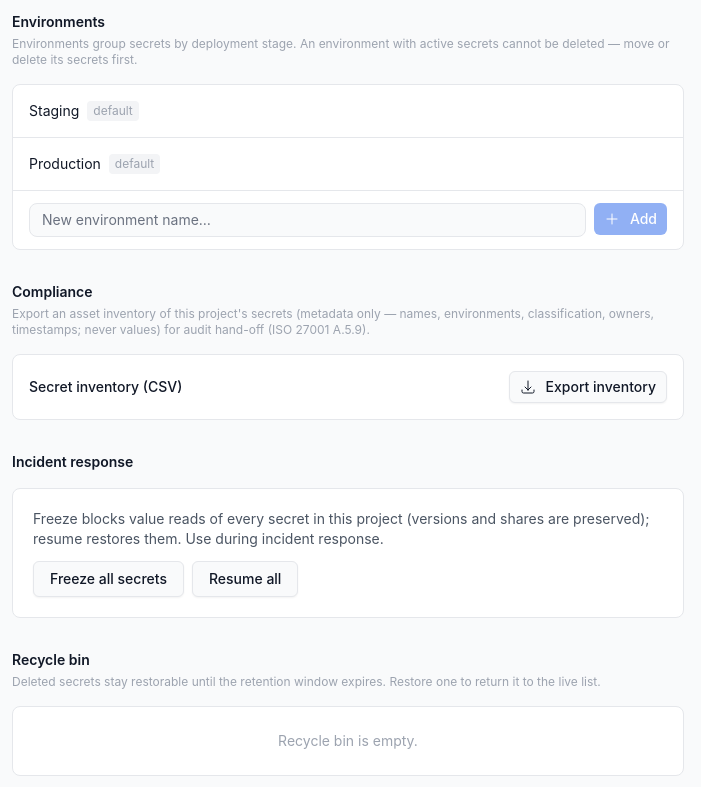
it: ProjectSettingsTab — promote environment › falls back to response.data.error when the inventory export failure has no message
(page scrolled)
Click the button "Export inventory" at (588, 387), box [509,371,667,403]
(page scrolled)
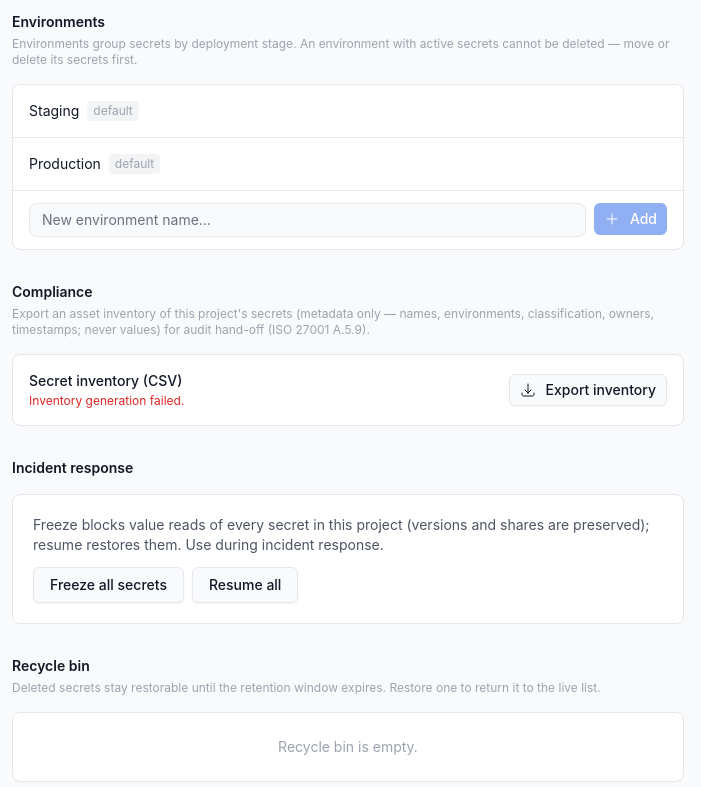
Now the text "Inventory generation failed." is shown, box [29,393,184,409]
